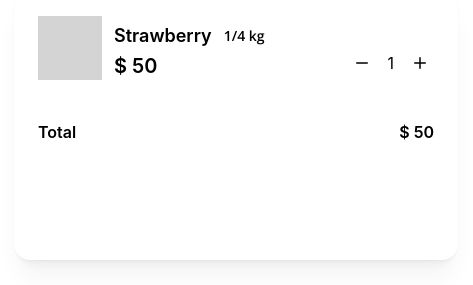
PreviewCart › checks if the quantity of an item in the cart is 1; if it is, clicking the '-' button removes the item
Expected: the text "Strawberry" is shown, [114,22,212,50]
What coordinates should you click on to do the following:
click the button named "decrement"
I would click on:
 (362, 63)
Its box is [348,49,376,77].
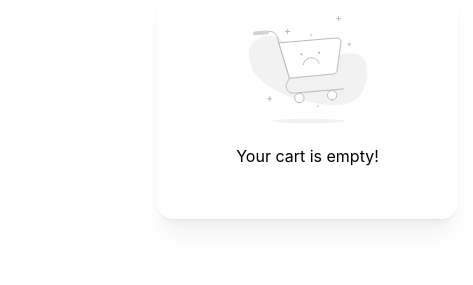
Result: the text "Strawberry" is gone
